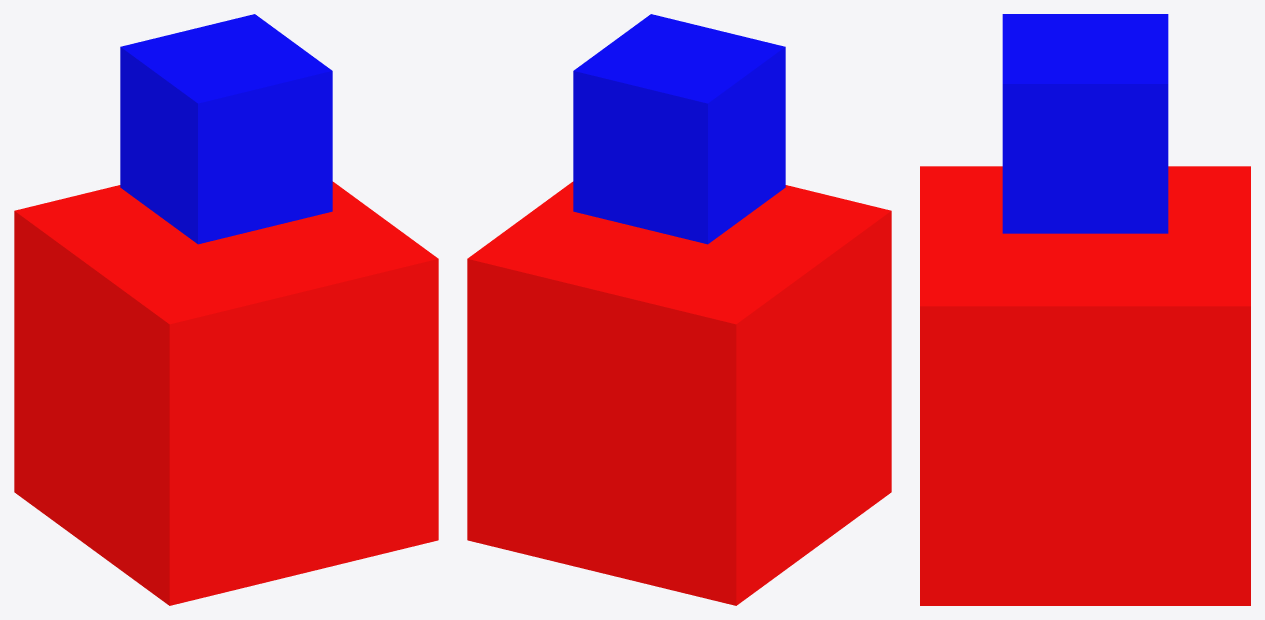
File: robot.gltf
3 renders of one model, left to right at view 1: azimuth 30°, elevation 25°; view 2: azimuth 150°, elevation 25°; view 3: azimuth 270°, elevation 25°, orthographic. The views are drawn at different scales.
Parts seen in each view (by area): view 1: Body, Head; view 2: Body, Head; view 3: Body, Head.
Boxes of the visible parts, x1,y1,x2,y2 form: Body: (14, 181, 438, 605); Head: (120, 14, 332, 244); Body: (467, 181, 891, 605); Head: (573, 14, 785, 244); Body: (920, 166, 1250, 605); Head: (1002, 14, 1168, 233).
Bounding box in the file's own units: 1.6 × 2.6 × 1.6.
